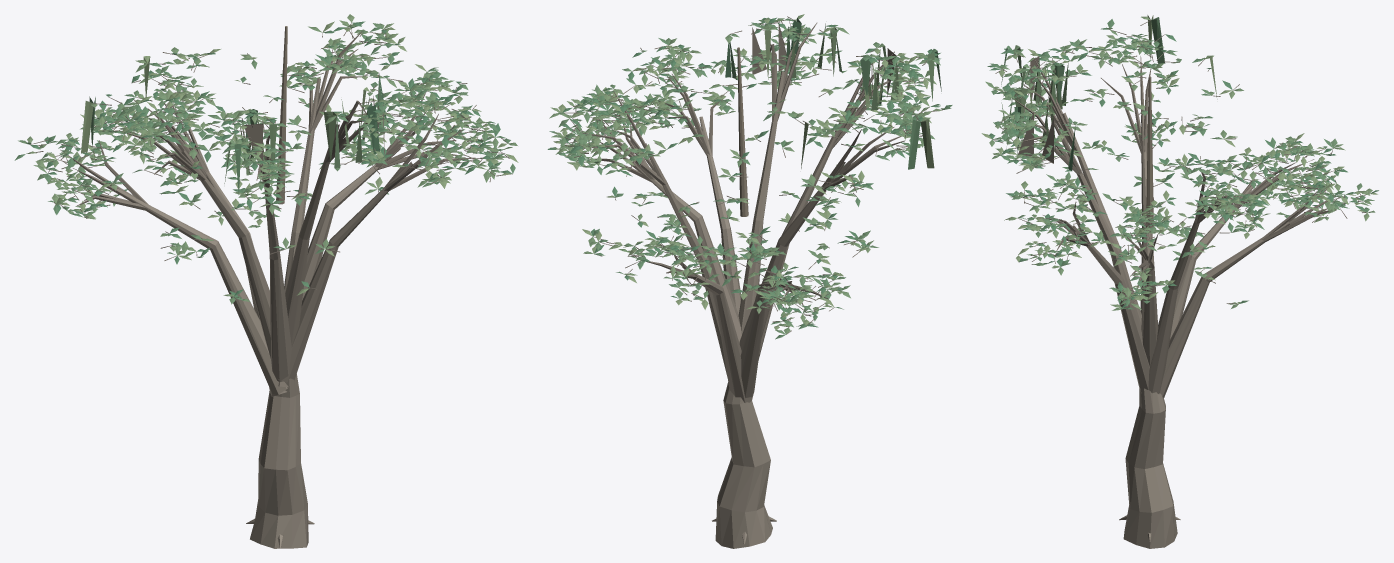
Rendered from E07_PITANGUEIRA_JOVEM_ESTRUTURAL_CANDIDATO_REV09.glb.
3 views of the same model, side by side, from view 1: azimuth 30°, elevation 25°; view 2: azimuth 150°, elevation 25°; view 3: azimuth 270°, elevation 25° (orthographic). The views are drawn at different scales.
Visible parts, largest first — view 1: E07_R2Z2_PITANGUEIRA_bark, E07_R2Z2_PITANGUEIRA_twig, E07_R2Z2_PITANGUEIRA_leaf1, E07_R2Z2_PITANGUEIRA_leaf5, E07_R2Z2_PITANGUEIRA_leaf3, E07_R2Z2_PITANGUEIRA_leaf4, E07_R2Z2_PITANGUEIRA_leaf0, E07_R2Z2_PITANGUEIRA_leaf2, young_apical_leader; view 2: E07_R2Z2_PITANGUEIRA_bark, E07_R2Z2_PITANGUEIRA_twig, E07_R2Z2_PITANGUEIRA_leaf1, E07_R2Z2_PITANGUEIRA_leaf5, E07_R2Z2_PITANGUEIRA_leaf3, E07_R2Z2_PITANGUEIRA_leaf4, E07_R2Z2_PITANGUEIRA_leaf2, E07_R2Z2_PITANGUEIRA_leaf0, young_apical_leader; view 3: E07_R2Z2_PITANGUEIRA_bark, E07_R2Z2_PITANGUEIRA_twig, E07_R2Z2_PITANGUEIRA_leaf1, E07_R2Z2_PITANGUEIRA_leaf3, E07_R2Z2_PITANGUEIRA_leaf5, E07_R2Z2_PITANGUEIRA_leaf2, E07_R2Z2_PITANGUEIRA_leaf0, E07_R2Z2_PITANGUEIRA_leaf4, young_apical_leader.
Part boxes in pixels (x1=…): E07_R2Z2_PITANGUEIRA_bark: x1=113, y1=78, x2=413, y2=548; E07_R2Z2_PITANGUEIRA_twig: x1=30, y1=22, x2=512, y2=296; E07_R2Z2_PITANGUEIRA_leaf1: x1=14, y1=24, x2=515, y2=300; E07_R2Z2_PITANGUEIRA_leaf5: x1=26, y1=21, x2=518, y2=296; E07_R2Z2_PITANGUEIRA_leaf3: x1=18, y1=23, x2=517, y2=301; E07_R2Z2_PITANGUEIRA_leaf4: x1=27, y1=14, x2=503, y2=298; E07_R2Z2_PITANGUEIRA_leaf0: x1=30, y1=21, x2=512, y2=296; E07_R2Z2_PITANGUEIRA_leaf2: x1=18, y1=23, x2=500, y2=304; young_apical_leader: x1=276, y1=26, x2=287, y2=204; E07_R2Z2_PITANGUEIRA_bark: x1=632, y1=71, x2=851, y2=548; E07_R2Z2_PITANGUEIRA_twig: x1=564, y1=16, x2=942, y2=334; E07_R2Z2_PITANGUEIRA_leaf1: x1=548, y1=17, x2=952, y2=339; E07_R2Z2_PITANGUEIRA_leaf5: x1=553, y1=18, x2=934, y2=330; E07_R2Z2_PITANGUEIRA_leaf3: x1=549, y1=18, x2=944, y2=333; E07_R2Z2_PITANGUEIRA_leaf4: x1=550, y1=14, x2=941, y2=326; E07_R2Z2_PITANGUEIRA_leaf2: x1=558, y1=19, x2=951, y2=334; E07_R2Z2_PITANGUEIRA_leaf0: x1=547, y1=17, x2=940, y2=327; young_apical_leader: x1=737, y1=47, x2=748, y2=216; E07_R2Z2_PITANGUEIRA_bark: x1=1062, y1=112, x2=1289, y2=548; E07_R2Z2_PITANGUEIRA_twig: x1=992, y1=20, x2=1366, y2=304; E07_R2Z2_PITANGUEIRA_leaf1: x1=990, y1=17, x2=1369, y2=309; E07_R2Z2_PITANGUEIRA_leaf3: x1=985, y1=30, x2=1375, y2=310; E07_R2Z2_PITANGUEIRA_leaf5: x1=981, y1=15, x2=1377, y2=303; E07_R2Z2_PITANGUEIRA_leaf2: x1=993, y1=34, x2=1374, y2=308; E07_R2Z2_PITANGUEIRA_leaf0: x1=987, y1=27, x2=1378, y2=308; E07_R2Z2_PITANGUEIRA_leaf4: x1=993, y1=16, x2=1372, y2=309; young_apical_leader: x1=1146, y1=76, x2=1153, y2=231.
Bounding box in the file's own units: 2.73 × 3.25 × 2.53.
